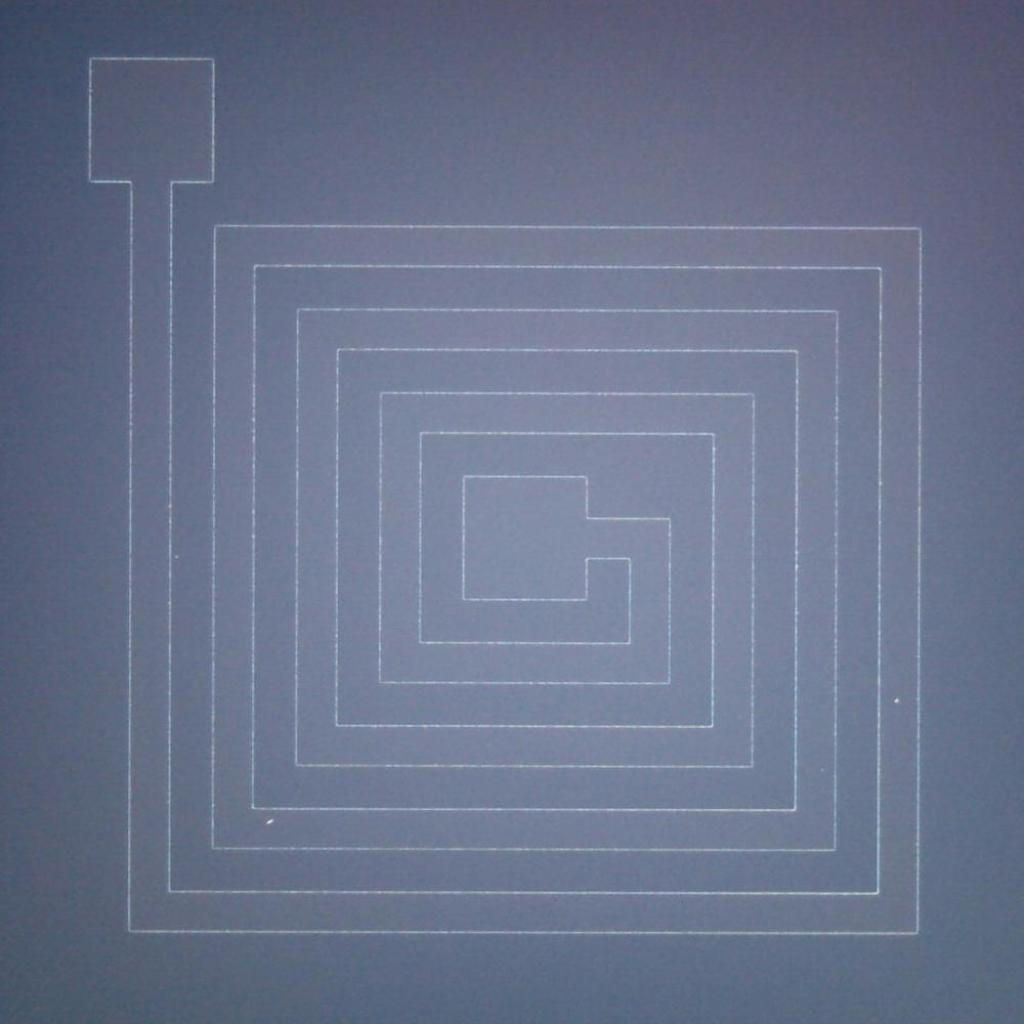dot: (894, 698, 900, 704), (267, 818, 273, 824), (174, 554, 179, 560)
